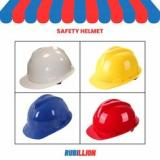Helmet: (18, 45, 76, 90), (89, 44, 143, 90), (21, 94, 73, 140), (85, 98, 140, 141)
